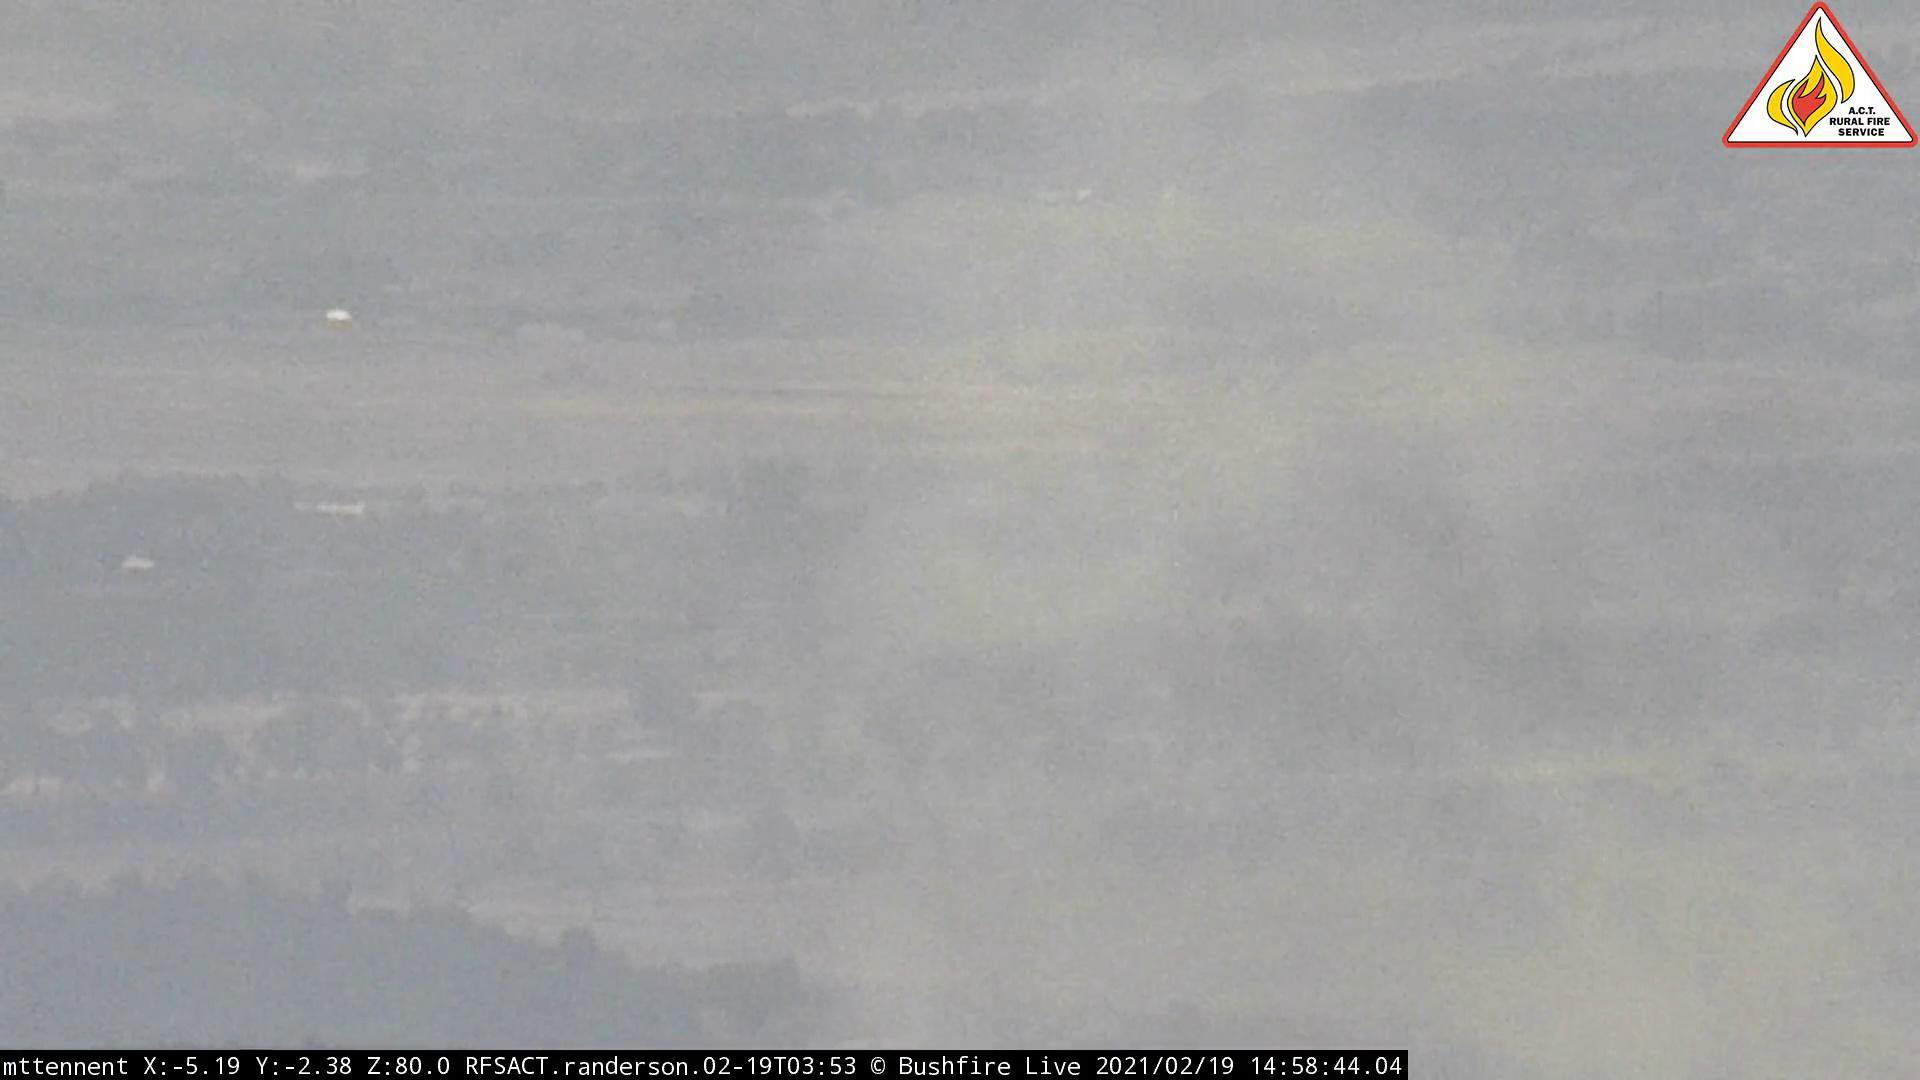instance_salient_object: (804, 195, 1668, 1043)
